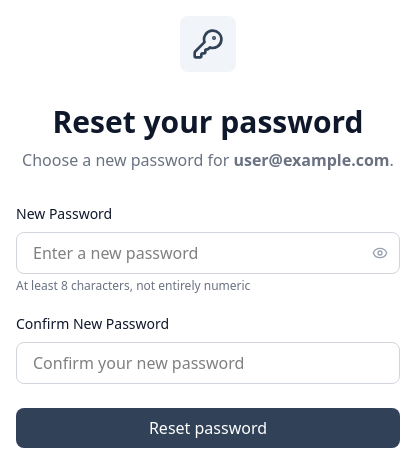
Test: ResetPassword › shows an expired-link state distinct from a weak-password error
Type "N3w-Str0ng-Pass!" into the password field with placeholder "Enter a new password".
click(208, 253); type("N3w-Str0ng-Pass!")  # box [16,232,400,274]
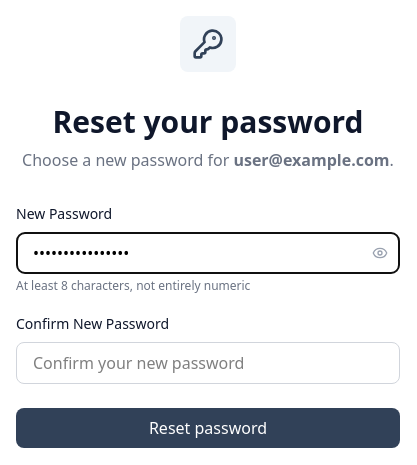
Type "N3w-Str0ng-Pass!" into the password field with placeholder "Confirm your new password".
click(208, 363); type("N3w-Str0ng-Pass!")  # box [16,342,400,384]
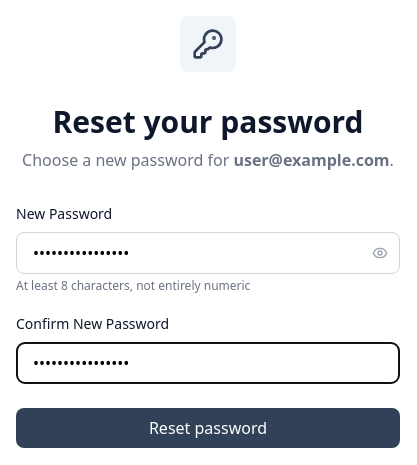
Click the button "Reset password".
click(208, 428)  # box [16,408,400,448]
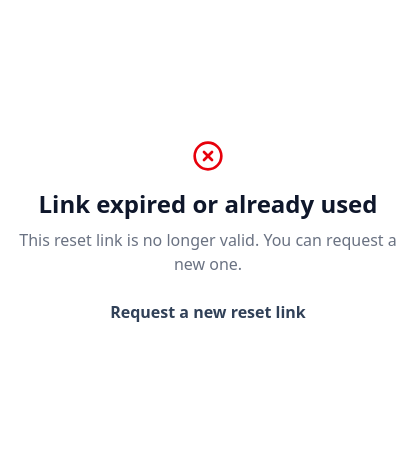
expect the heading "Link expired or already used" is shown: met, box [38,188,378,220]
expect the link "Request a new reset link" is shown: met, box [110,300,306,324]
